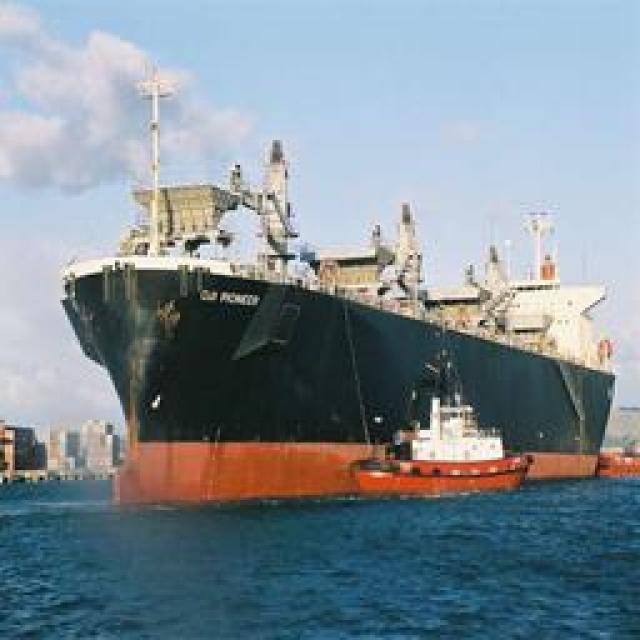CIV_Ship: (71, 225, 581, 505)
